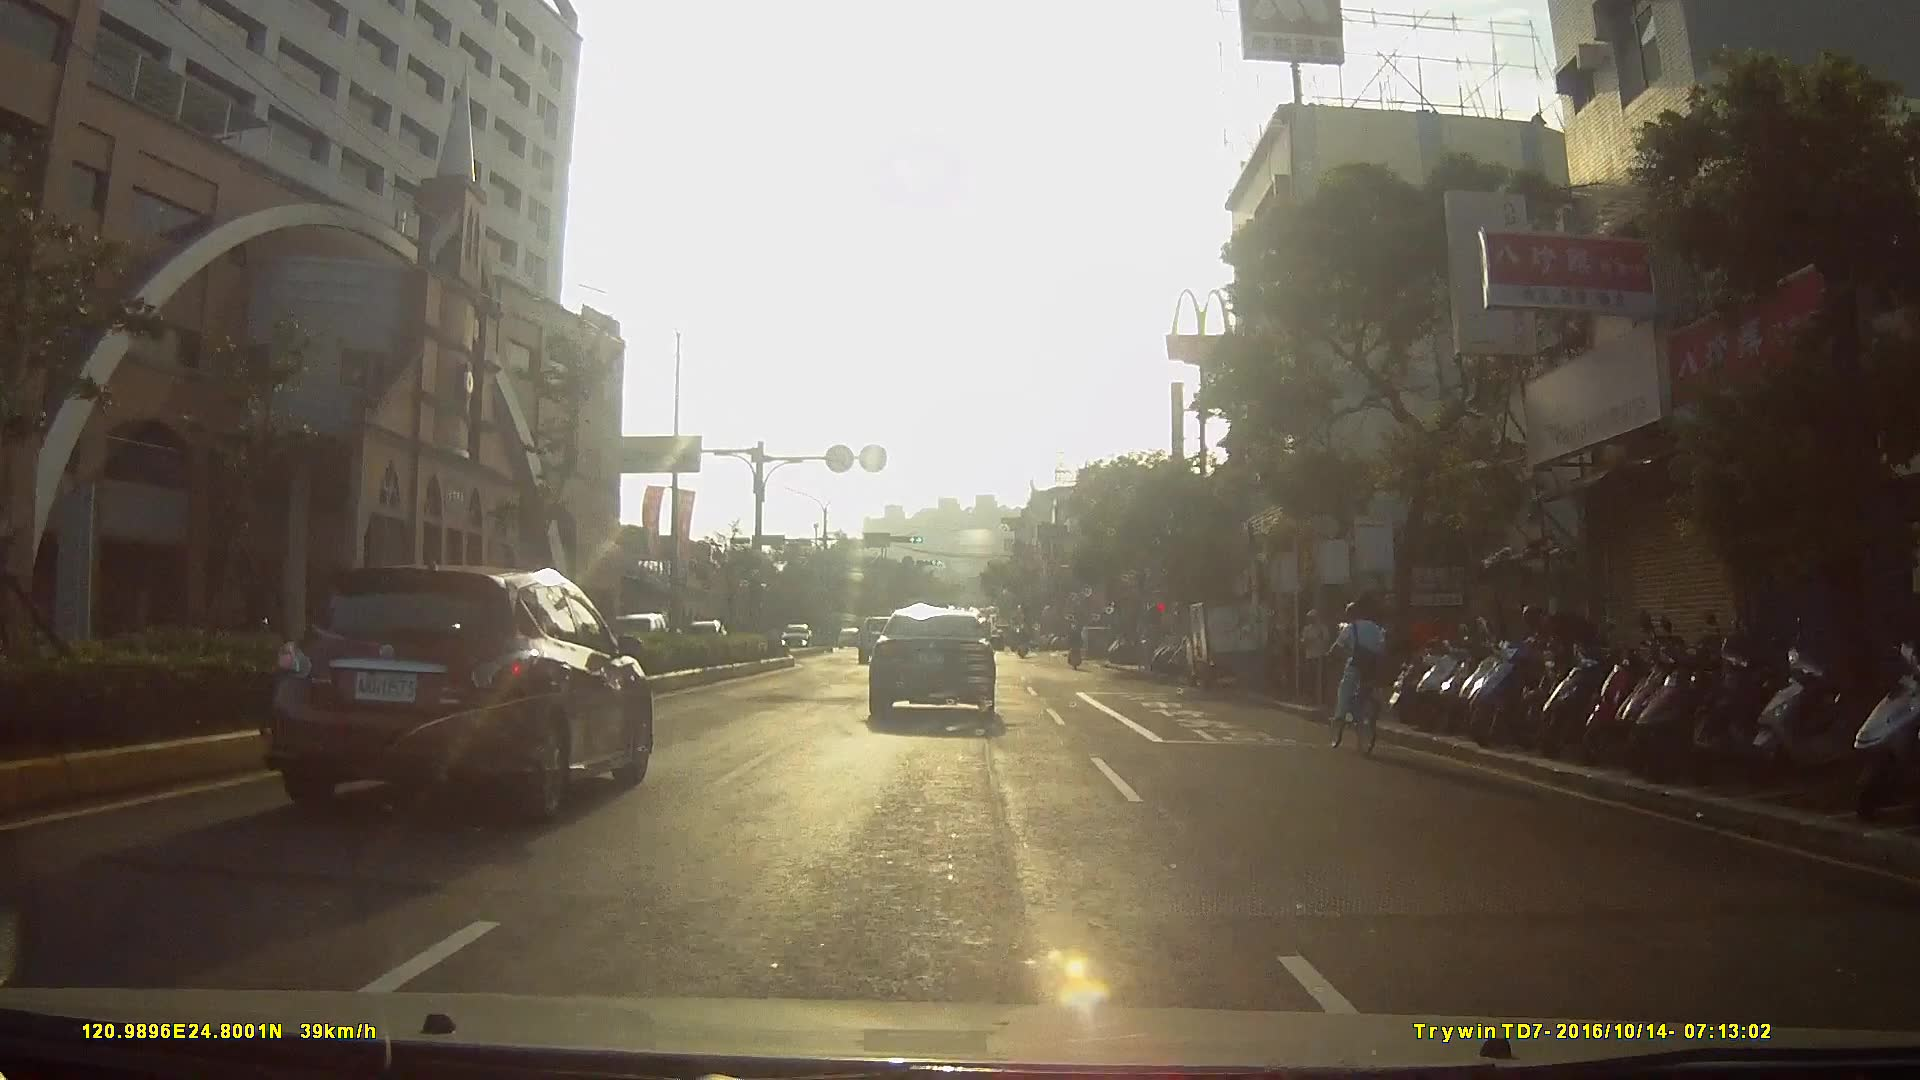pedestrian: (1301, 613, 1339, 711)
rider: (1323, 607, 1395, 760)
vehicle: (258, 562, 666, 824), (864, 607, 1011, 731), (1188, 599, 1290, 697), (855, 619, 914, 672), (777, 623, 814, 652), (829, 631, 855, 656)
